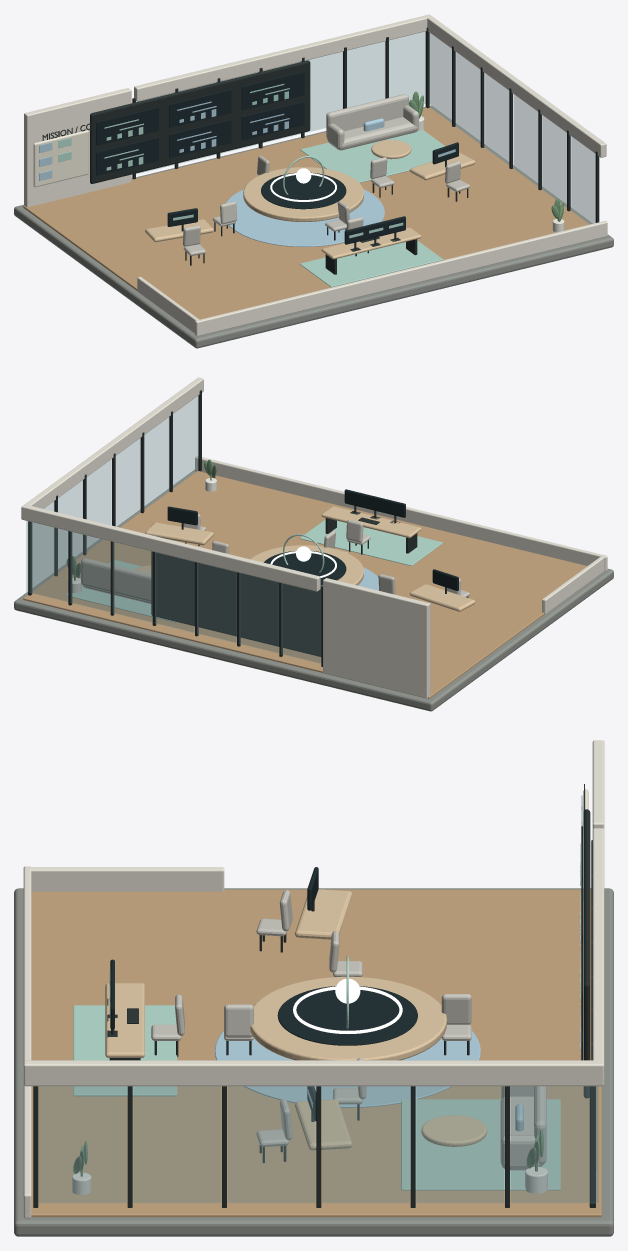
The model's file is mission_control_floor.glb.
3 views of the same model, one above another, from view 1: azimuth 30°, elevation 25°; view 2: azimuth 150°, elevation 25°; view 3: azimuth 270°, elevation 25° (orthographic). The views are drawn at different scales.
Visible parts, largest first — view 1: ARCH_FINISH_FLOOR, ARCH_FLOOR_SLAB, DASHBOARD_WALL, ARCH_FRONT_EDGE, ARCH_BACK_WALL, ARCH_BACK_TOP, COMMAND_RUG, ARCH_RIGHT_TOP, BRIEFING_RUG, RUG_MIGO, COMMAND_TABLE, WIN_BACK_GLASS_6 (+23 smaller); view 2: ARCH_FINISH_FLOOR, ARCH_BACK_WALL, DASHBOARD_WALL, ARCH_FLOOR_SLAB, ARCH_FRONT_EDGE, ARCH_BACK_TOP, ARCH_RIGHT_TOP, WIN_BACK_GLASS_0, WIN_BACK_GLASS_1, WIN_BACK_GLASS_2, WIN_BACK_GLASS_3, WIN_BACK_GLASS_6 (+18 smaller); view 3: ARCH_FINISH_FLOOR, ARCH_FLOOR_SLAB, ARCH_RIGHT_TOP, WIN_RIGHT_GLASS_0, WIN_RIGHT_GLASS_1, WIN_RIGHT_GLASS_2, WIN_RIGHT_GLASS_3, WIN_RIGHT_GLASS_4, WIN_RIGHT_GLASS_5, BRIEFING_RUG, COMMAND_TABLE, COMMAND_MAP (+21 smaller).
Boxes of the visible parts, <box> form: ARCH_FINISH_FLOOR: <box>23,107,589,319</box>; ARCH_FLOOR_SLAB: <box>14,105,613,348</box>; DASHBOARD_WALL: <box>90,60,310,183</box>; ARCH_FRONT_EDGE: <box>195,220,607,336</box>; ARCH_BACK_WALL: <box>24,88,131,207</box>; ARCH_BACK_TOP: <box>134,14,431,101</box>; COMMAND_RUG: <box>226,189,384,246</box>; ARCH_RIGHT_TOP: <box>427,15,606,157</box>; BRIEFING_RUG: <box>300,129,444,182</box>; RUG_MIGO: <box>300,240,443,287</box>; COMMAND_TABLE: <box>243,167,363,221</box>; WIN_BACK_GLASS_6: <box>389,32,425,103</box>; ARCH_FINISH_FLOOR: <box>23,471,587,698</box>; ARCH_BACK_WALL: <box>323,578,430,698</box>; DASHBOARD_WALL: <box>151,551,321,656</box>; ARCH_FLOOR_SLAB: <box>14,469,613,711</box>; ARCH_FRONT_EDGE: <box>195,456,607,571</box>; ARCH_BACK_TOP: <box>21,505,320,591</box>; ARCH_RIGHT_TOP: <box>22,377,203,520</box>; WIN_BACK_GLASS_0: <box>281,583,320,663</box>; WIN_BACK_GLASS_1: <box>239,573,278,653</box>; WIN_BACK_GLASS_2: <box>197,562,236,642</box>; WIN_BACK_GLASS_3: <box>155,552,194,632</box>; WIN_BACK_GLASS_6: <box>28,521,67,601</box>; ARCH_FINISH_FLOOR: <box>31,889,601,1217</box>; ARCH_FLOOR_SLAB: <box>14,888,613,1236</box>; ARCH_RIGHT_TOP: <box>23,1060,603,1086</box>; WIN_RIGHT_GLASS_0: <box>39,1086,126,1202</box>; WIN_RIGHT_GLASS_1: <box>133,1086,220,1202</box>; WIN_RIGHT_GLASS_2: <box>228,1086,315,1202</box>; WIN_RIGHT_GLASS_3: <box>322,1086,409,1202</box>; WIN_RIGHT_GLASS_4: <box>416,1086,503,1202</box>; WIN_RIGHT_GLASS_5: <box>511,1086,598,1202</box>; BRIEFING_RUG: <box>401,1099,560,1190</box>; COMMAND_TABLE: <box>250,976,446,1060</box>; COMMAND_MAP: <box>277,986,417,1045</box>.
Bounding box in the file's own units: 16.4 × 3.86 × 12.4.
